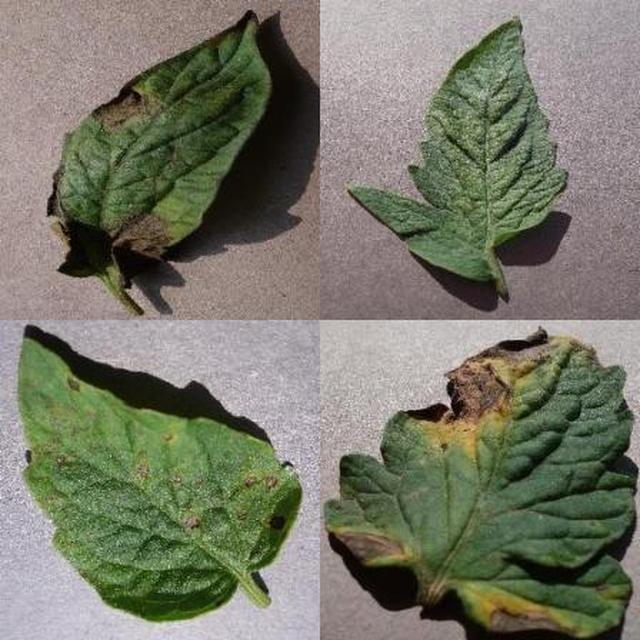Late Blight Leaf: (229, 211, 640, 640)
